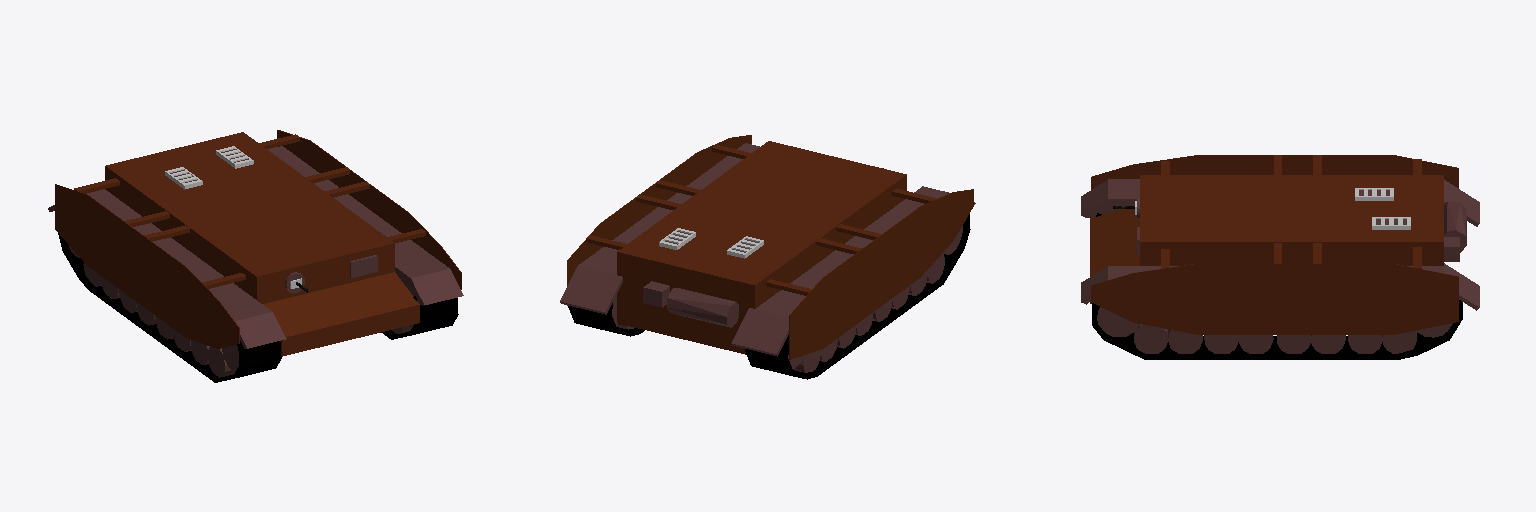
3 renders of one model, left to right at view 1: azimuth 30°, elevation 25°; view 2: azimuth 150°, elevation 25°; view 3: azimuth 270°, elevation 25°, orthographic.
Parts seen in each view (by area): view 1: 立方体.026, 立方体.030_立方体.001_立方体.030_立方体.002, 立方体.001_立方体.004, 立方体.003_立方体.001_立方体.003_立方体.006, 立方体.003_立方体.005, 立方体.030_立方体.032, 立方体.084_立方体.003, 立方体.084_立方体.001; view 2: 立方体.026, 立方体.030_立方体.001_立方体.030_立方体.002, 立方体.030_立方体.032, 立方体.084_立方体.003, 立方体.003_立方体.001_立方体.003_立方体.006, 立方体.003_立方体.005, 立方体.012_立方体.002, 立方体.008_立方体.009, 円柱.006, 立方体.084_立方体.001, 立方体.010_立方体.001.000; view 3: 立方体.026, 立方体.030_立方体.032, 立方体.030_立方体.001_立方体.030_立方体.002, 立方体.084_立方体.001, 立方体.001_立方体.004, 立方体.003_立方体.001_立方体.003_立方体.006, 立方体.003_立方体.005, 円柱.006, 履帯01.007_円柱.009_履帯01.007_円柱.010, 履帯01.007_円柱.012_履帯01.007_円柱.013, 立方体.008_立方体.009, 立方体.012_立方体.002 (+7 smaller).
Part boxes in pixels (left/top/right/bottom): 立方体.026: left=105, top=132, right=394, bottom=303; 立方体.030_立方体.001_立方体.030_立方体.002: left=55, top=184, right=239, bottom=348; 立方体.001_立方体.004: left=263, top=272, right=419, bottom=356; 立方体.003_立方体.001_立方体.003_立方体.006: left=87, top=189, right=285, bottom=348; 立方体.003_立方体.005: left=267, top=146, right=463, bottom=305; 立方体.030_立方体.032: left=277, top=130, right=461, bottom=289; 立方体.084_立方体.003: left=58, top=233, right=281, bottom=382; 立方体.084_立方体.001: left=381, top=296, right=458, bottom=339; 立方体.026: left=617, top=141, right=906, bottom=354; 立方体.030_立方体.001_立方体.030_立方体.002: left=789, top=189, right=973, bottom=359; 立方体.030_立方体.032: left=567, top=135, right=751, bottom=305; 立方体.084_立方体.003: left=745, top=214, right=970, bottom=379; 立方体.003_立方体.001_立方体.003_立方体.006: left=756, top=186, right=975, bottom=316; 立方体.003_立方体.005: left=578, top=143, right=759, bottom=274; 立方体.012_立方体.002: left=560, top=266, right=622, bottom=314; 立方体.008_立方体.009: left=731, top=308, right=788, bottom=356; 円柱.006: left=667, top=288, right=738, bottom=327; 立方体.084_立方体.001: left=568, top=303, right=644, bottom=336; 立方体.010_立方体.001.000: left=643, top=281, right=669, bottom=307; 立方体.026: left=1140, top=175, right=1443, bottom=265; 立方体.030_立方体.032: left=1091, top=264, right=1458, bottom=334; 立方体.030_立方体.001_立方体.030_立方体.002: left=1091, top=155, right=1458, bottom=189; 立方体.084_立方体.001: left=1092, top=300, right=1462, bottom=359; 立方体.001_立方体.004: left=1090, top=209, right=1139, bottom=303; 立方体.003_立方体.001_立方体.003_立方体.006: left=1081, top=179, right=1139, bottom=217; 立方体.003_立方体.005: left=1081, top=266, right=1443, bottom=304; 円柱.006: left=1444, top=202, right=1466, bottom=252; 履帯01.007_円柱.009_履帯01.007_円柱.010: left=1134, top=324, right=1168, bottom=353; 履帯01.007_円柱.012_履帯01.007_円柱.013: left=1097, top=307, right=1139, bottom=336; 立方体.008_立方体.009: left=1444, top=180, right=1479, bottom=226; 立方体.012_立方体.002: left=1444, top=263, right=1479, bottom=310.
Size of the model in its own units: 5.92 by 2.6 by 9.16.
Materials: 9 (3 with a texture image).